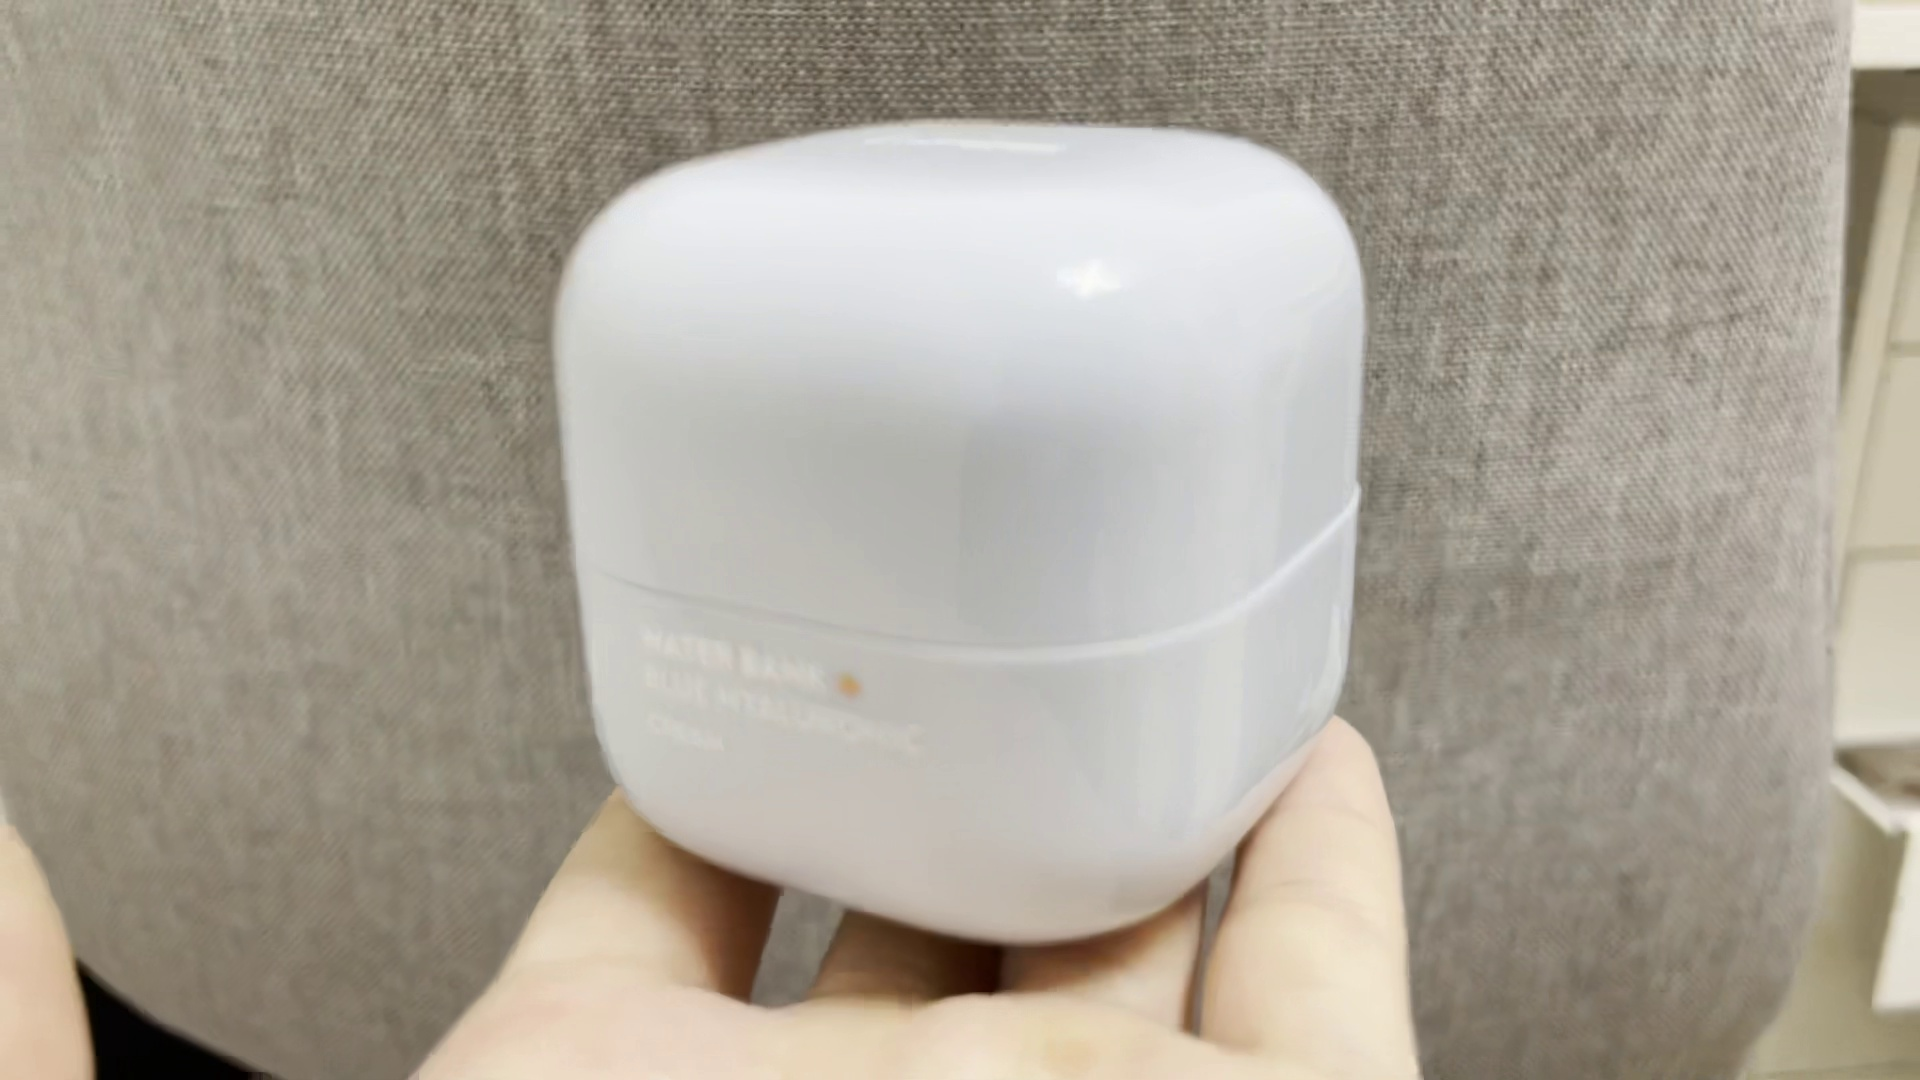cream: (550, 117, 1360, 940)
